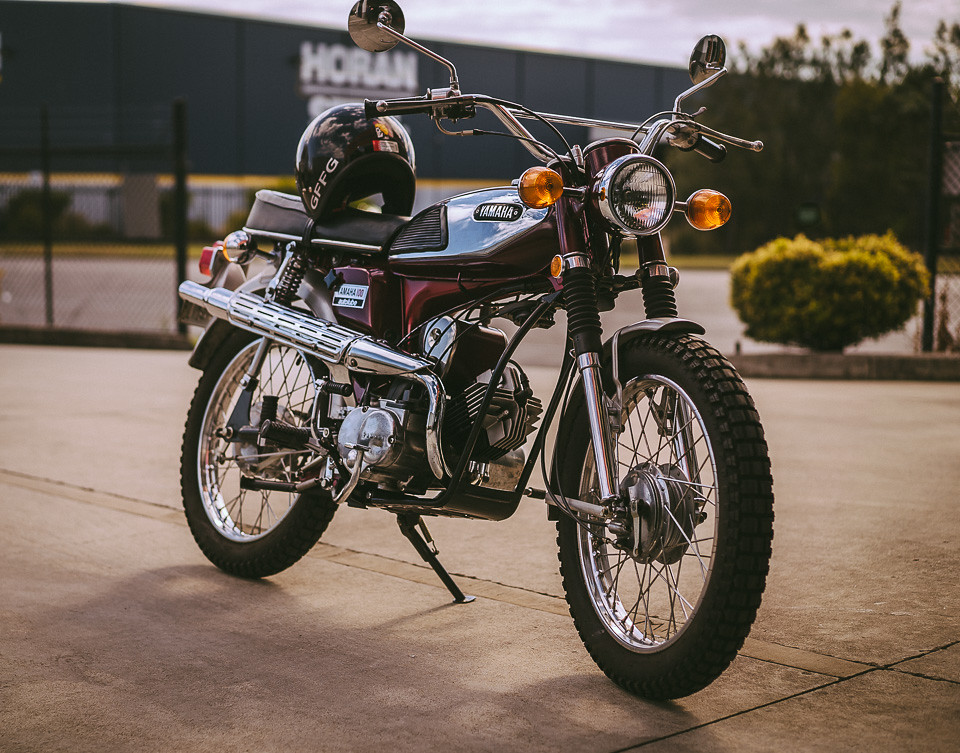motor bike: (158, 3, 782, 704)
